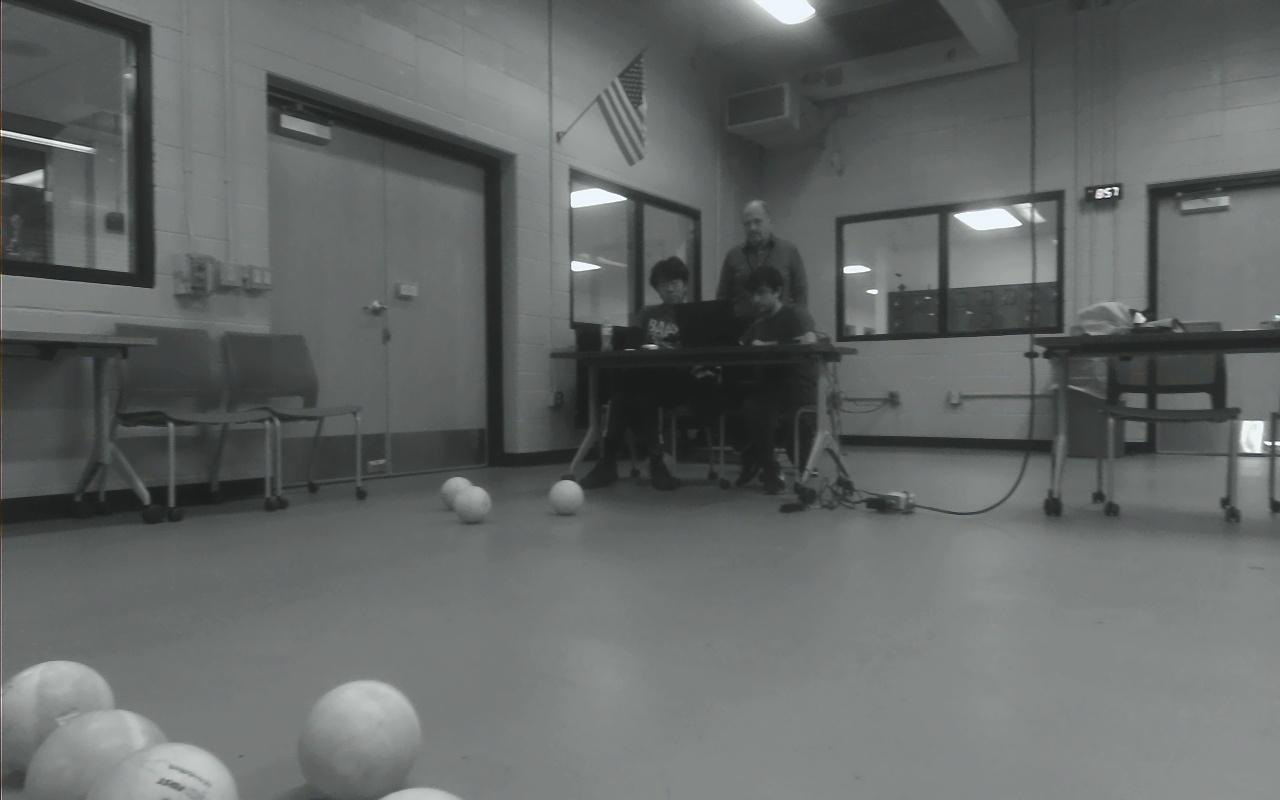Fuel: (297, 678, 421, 799), (0, 660, 114, 781), (22, 709, 165, 800), (90, 742, 239, 800), (454, 485, 492, 522), (373, 785, 466, 800), (549, 480, 584, 516), (440, 476, 472, 509)
